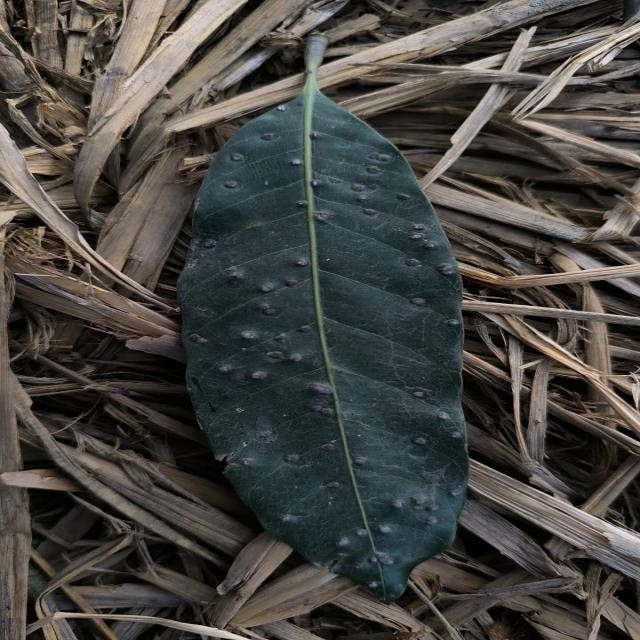gall midge: (236, 323, 315, 384), (218, 261, 296, 297), (380, 491, 443, 529), (351, 165, 384, 218), (221, 150, 252, 164)
